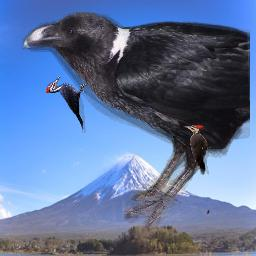Crow: (22, 11, 250, 234)
Woodpecker: (46, 76, 87, 133), (183, 125, 209, 175)
